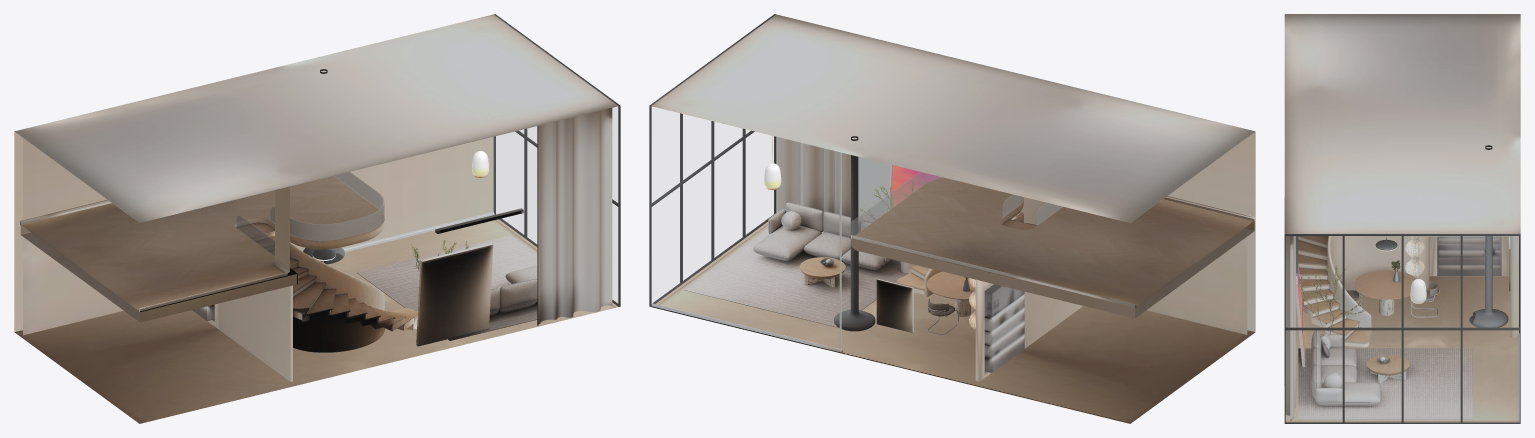
File: veew_pod.glb
The picture shows the model from 3 angles, left to right: view 1: azimuth 30°, elevation 25°; view 2: azimuth 150°, elevation 25°; view 3: azimuth 270°, elevation 25°; orthographic projection. The views are drawn at different scales.
Parts seen in each view (by area): view 1: ceiling, flloor_2nd, flloor_1st, shelf_wall, curtain, large_painting_frame, carpet, window_glass, stair_landings, stair_glass_rail, window_frame, wall_skirt (+3 smaller); view 2: ceiling, flloor_2nd, flloor_1st, shelf_wall, window_glass, carpet, window_frame, sofa, curtain, shelf_frame, large_painting_frame, wall_skirt (+4 smaller); view 3: ceiling, window_glass, flloor_1st, carpet, window_frame, flloor_2nd, sofa, stair_landings, shelf_frame, curtain, shelf_wall, dinning_table (+7 smaller).
Part boxes in pixels (x1,y1,x2,y2): ceiling: [14, 14, 618, 222]; flloor_2nd: [20, 176, 384, 352]; flloor_1st: [14, 219, 618, 423]; shelf_wall: [14, 131, 493, 381]; curtain: [537, 108, 612, 325]; large_painting_frame: [416, 243, 493, 346]; carpet: [357, 235, 537, 340]; window_glass: [495, 107, 617, 303]; stair_landings: [236, 222, 417, 325]; stair_glass_rail: [236, 172, 384, 256]; window_frame: [303, 14, 620, 306]; wall_skirt: [20, 199, 494, 311]; ceiling: [651, 14, 1255, 222]; flloor_2nd: [850, 177, 1254, 318]; flloor_1st: [651, 222, 1255, 423]; shelf_wall: [776, 131, 1255, 381]; window_glass: [652, 107, 774, 302]; carpet: [684, 228, 908, 327]; window_frame: [649, 14, 875, 331]; sofa: [753, 202, 891, 270]; curtain: [777, 137, 850, 217]; shelf_frame: [984, 284, 1024, 373]; large_painting_frame: [876, 164, 941, 332]; wall_skirt: [651, 195, 1255, 352]; ceiling: [1284, 14, 1520, 233]; window_glass: [1286, 236, 1518, 421]; flloor_1st: [1285, 236, 1519, 422]; carpet: [1298, 348, 1472, 419]; window_frame: [1284, 145, 1520, 423]; flloor_2nd: [1327, 236, 1509, 333]; sofa: [1311, 330, 1380, 405]; stair_landings: [1298, 236, 1370, 343]; shelf_frame: [1437, 236, 1501, 275]; curtain: [1285, 236, 1295, 421]; shelf_wall: [1284, 198, 1518, 385]; dinning_table: [1354, 270, 1416, 315].
Size of the model in its own units: 13.04 by 5.27 by 5.89.
53 materials, 50 textured.
